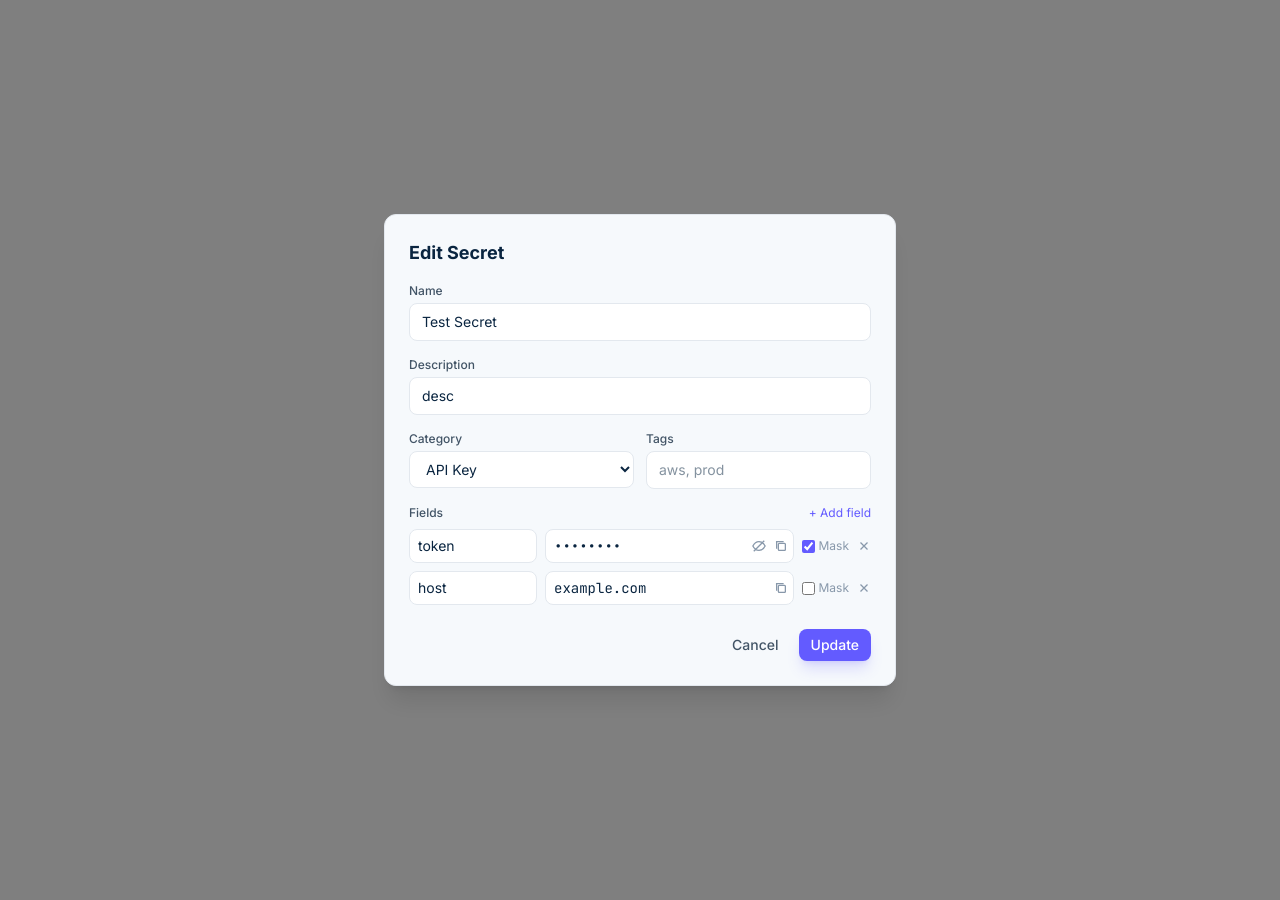
it: VaultForm — masked field security › focusing a masked field auto-reveals for editing
This screenshot has width=1280, height=900.
Click the 4th field with placeholder "Value": click(669, 546) [545,529,794,563]
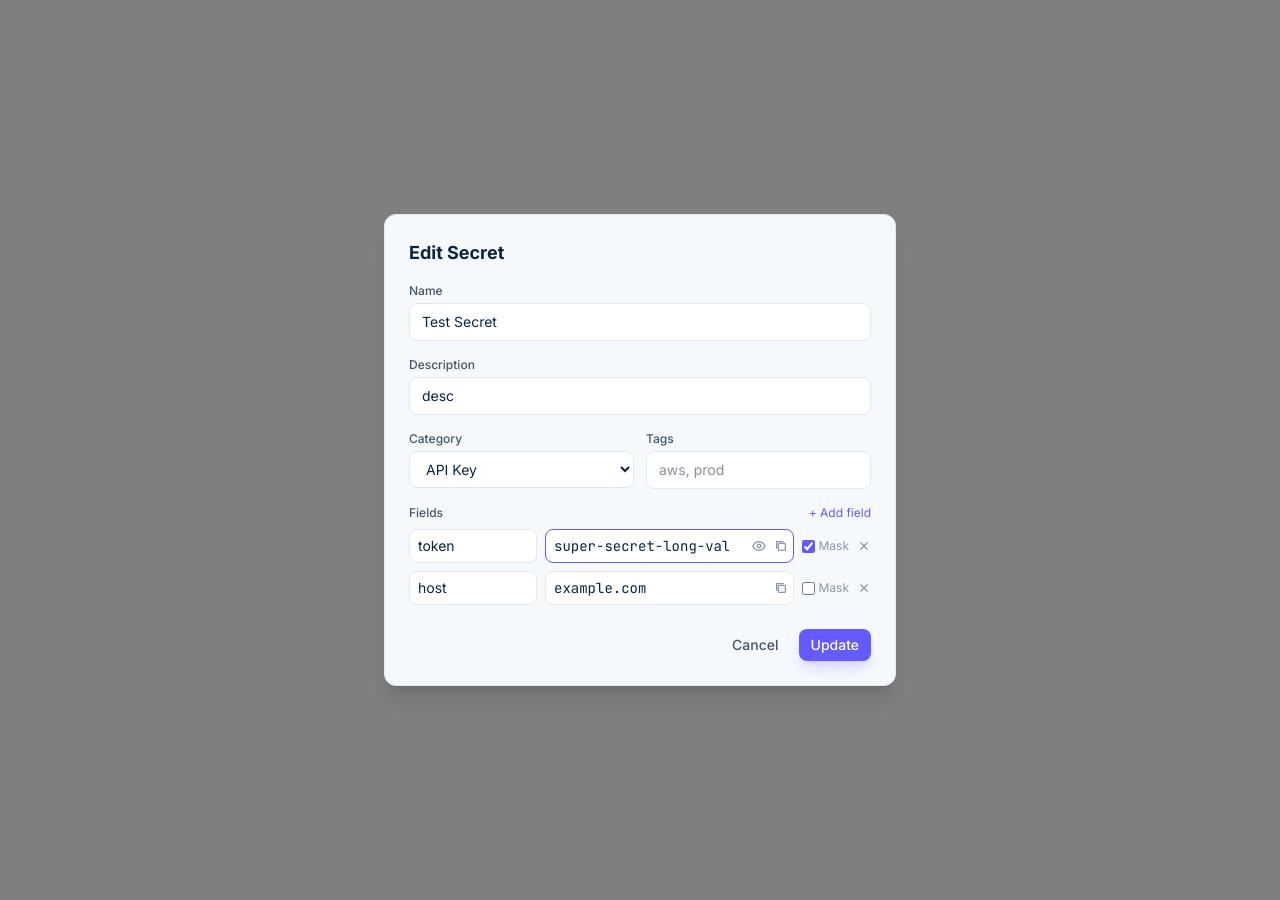
Expected: the 4th field with placeholder "Value" holds "super-secret-long-value-42", [545,529,794,563]
